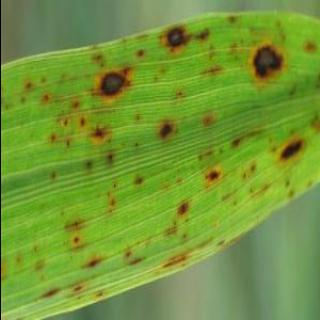bercak-Cokelat: (251, 45, 282, 80), (161, 27, 189, 51), (99, 73, 123, 95), (161, 252, 188, 267), (281, 141, 300, 159), (157, 121, 175, 139), (89, 127, 107, 142), (81, 256, 100, 267), (176, 202, 187, 217)
